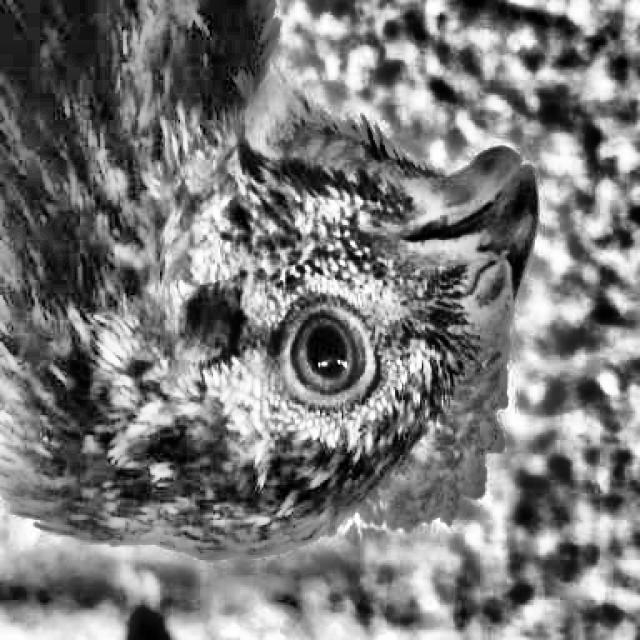Healthy: (270, 278, 403, 412)
